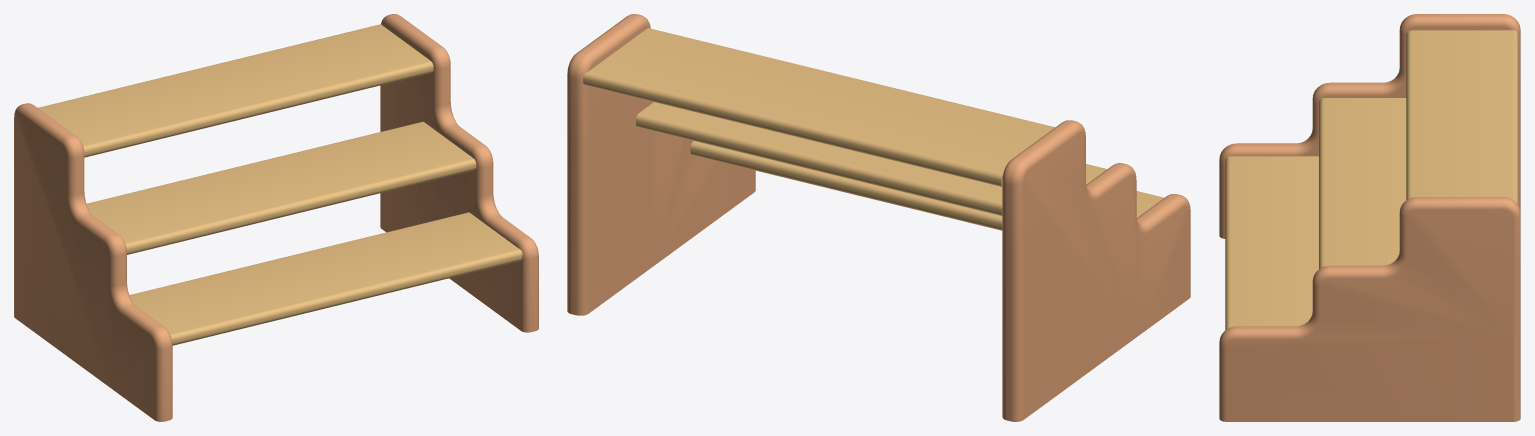
File: raf2.fbx
The picture shows the model from 3 angles, left to right: view 1: azimuth 30°, elevation 25°; view 2: azimuth 150°, elevation 25°; view 3: azimuth 270°, elevation 25°; orthographic projection. The views are drawn at different scales.
Visible parts, largest first — view 1: raf2; view 2: raf2; view 3: raf2.
Part boxes in pixels (<box>): raf2: <box>14,14,538,421</box>; raf2: <box>567,14,1190,421</box>; raf2: <box>1219,14,1520,421</box>.
Size of the model in its own units: 221 by 118 by 147.
